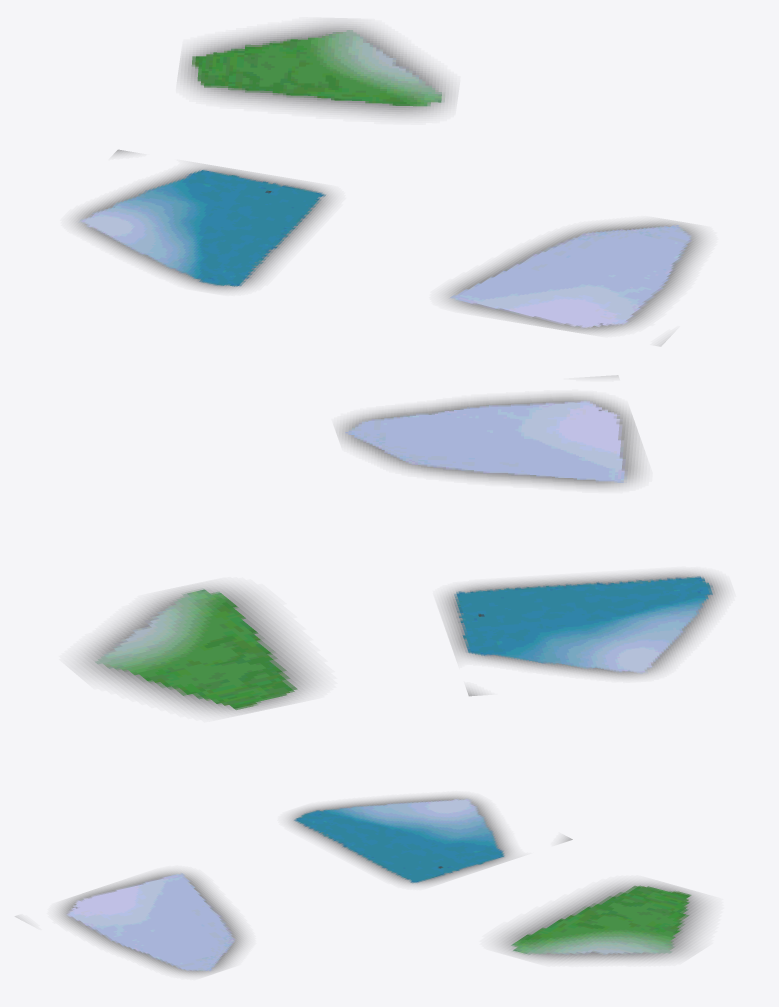
File: glass_shards_1.glb
3 views of the same model, one above another, from view 1: azimuth 30°, elevation 25°; view 2: azimuth 150°, elevation 25°; view 3: azimuth 270°, elevation 25° (orthographic). The views are drawn at different scales.
Parts seen in each view (by area): view 1: Glass_Shards_1; view 2: Glass_Shards_1; view 3: Glass_Shards_1.
Part boxes in pixels (<box>): Glass_Shards_1: <box>74,24,702,332</box>; Glass_Shards_1: <box>82,396,723,712</box>; Glass_Shards_1: <box>59,796,705,974</box>.
Size of the model in its own units: 0.8873 by 0.00595 by 1.21.
1 material, 1 textured.
